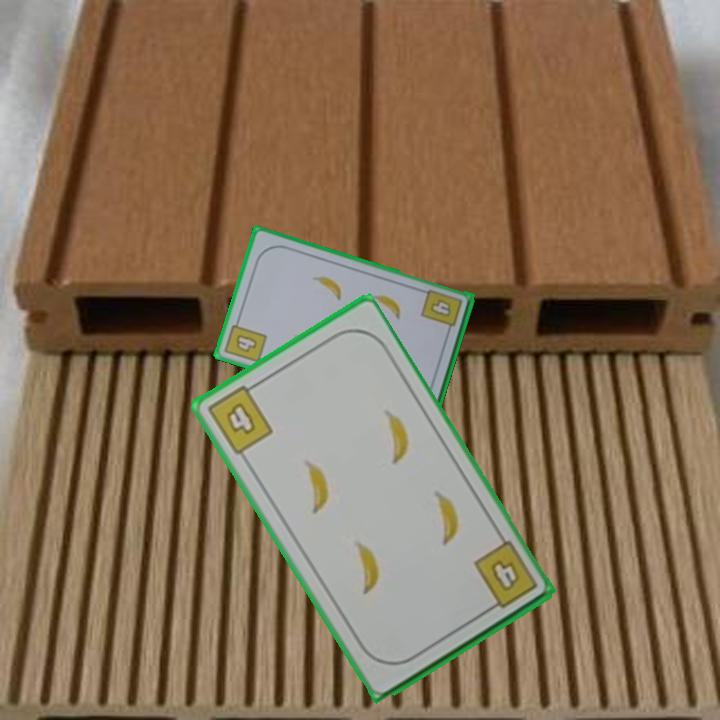4b: (203, 378, 276, 458), (469, 537, 540, 616), (221, 314, 270, 366), (417, 286, 465, 337)
